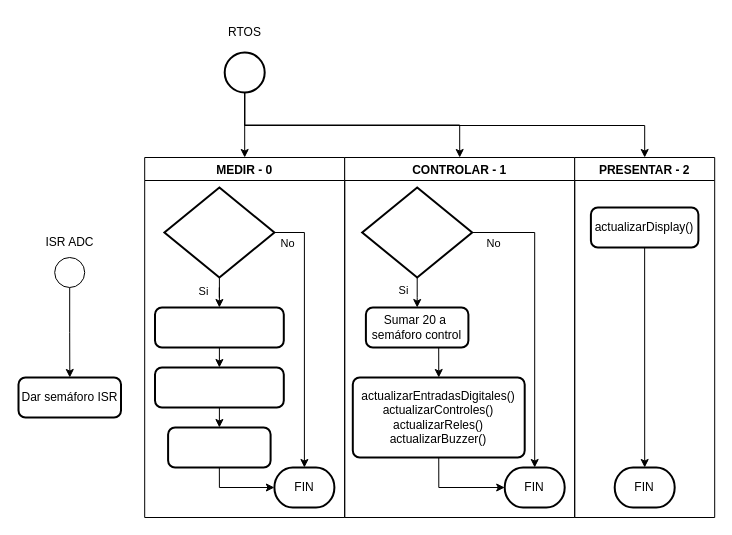
The diagram is 732 pixels wide and 535 high, and some of its shapes have lost their labels. The shapes that lost their labels are listed below. From the top down, each one's box as (x1, y1, x2, y2) in pixels, then its label:
(163, 186, 275, 278): ¿Semáforo ISR disponible?
(361, 186, 473, 278): ¿Semáforo control == 0?
(154, 306, 284, 348): Tomar semáforo ISR
(154, 366, 284, 408): actualizarSensores()
(167, 426, 271, 468): Restar 1 a semáforo control
